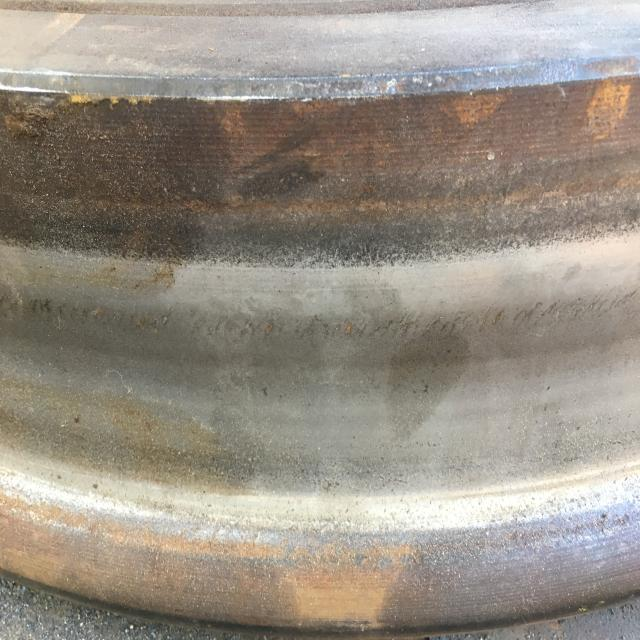Contact_Fatigue_Cracks: (5, 291, 97, 332), (303, 317, 418, 346), (198, 316, 283, 343), (500, 307, 570, 331), (433, 311, 491, 337), (120, 311, 171, 337), (580, 299, 628, 322)
